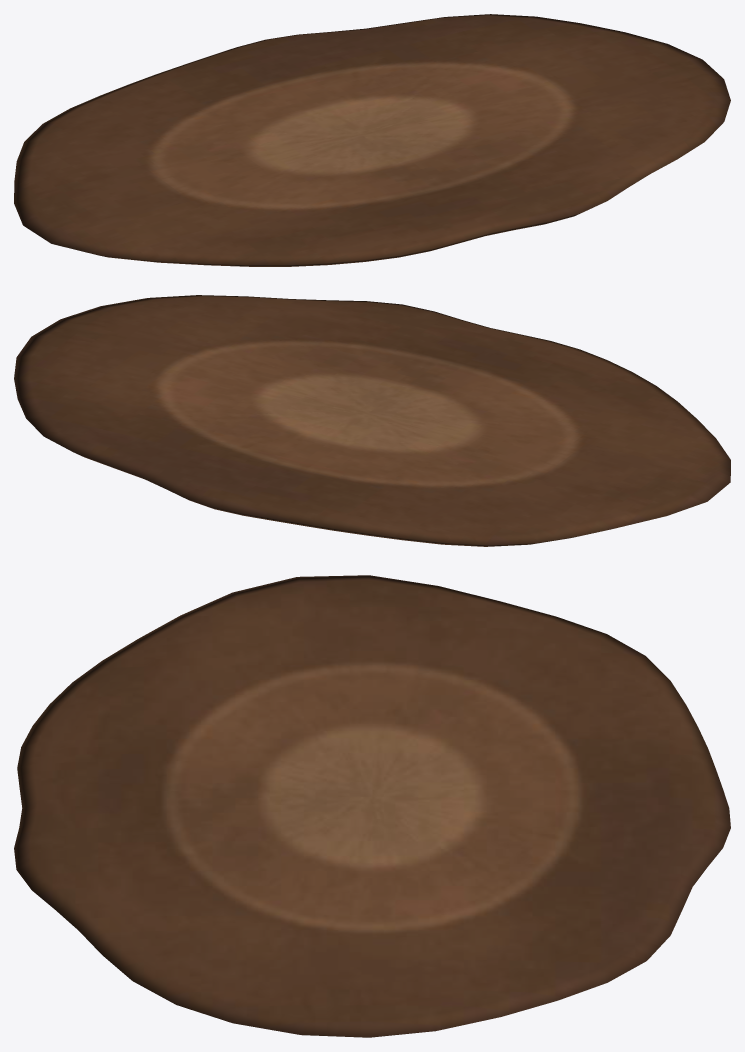
File: SM_Igloo_Rug_2.glb
3 views of the same model, one above another, from view 1: azimuth 30°, elevation 25°; view 2: azimuth 150°, elevation 25°; view 3: azimuth 270°, elevation 25° (orthographic). The views are drawn at different scales.
Visible parts, largest first — view 1: SM_Igloo_Rug_2; view 2: SM_Igloo_Rug_2; view 3: SM_Igloo_Rug_2.
Part boxes in pixels (x1,y1,x2,y2): SM_Igloo_Rug_2: [14, 14, 730, 266]; SM_Igloo_Rug_2: [14, 295, 730, 546]; SM_Igloo_Rug_2: [14, 575, 730, 1037].
Size of the model in its own units: 2.61 by 0.05 by 1.71.
Materials: 1 (1 with a texture image).
